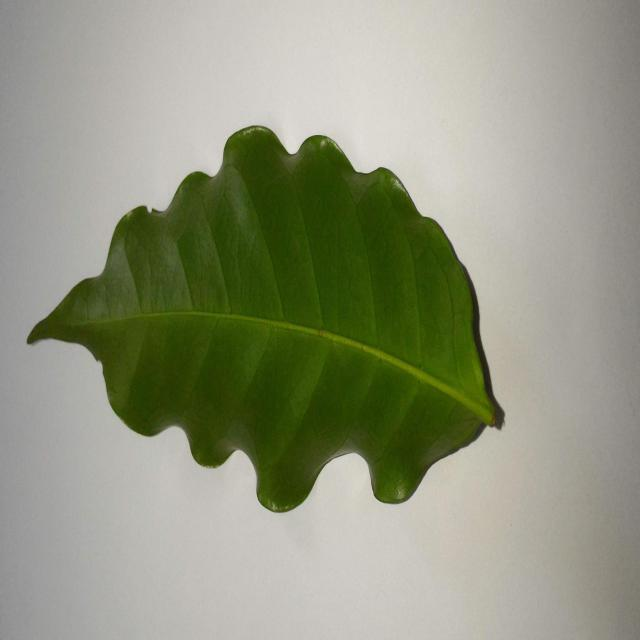nodisease: (28, 126, 504, 512)
